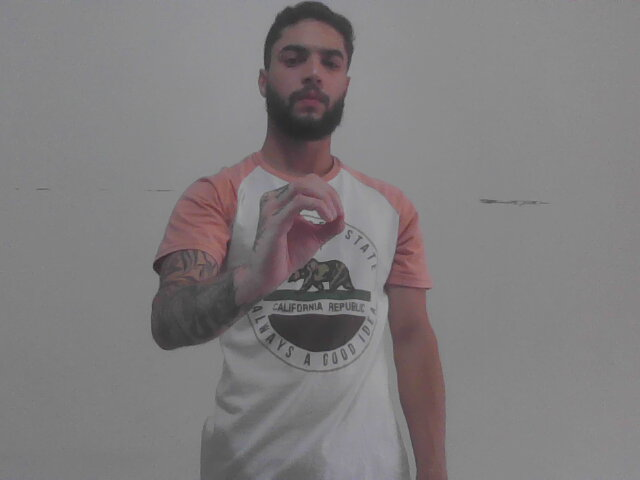o: (250, 169, 349, 296)
